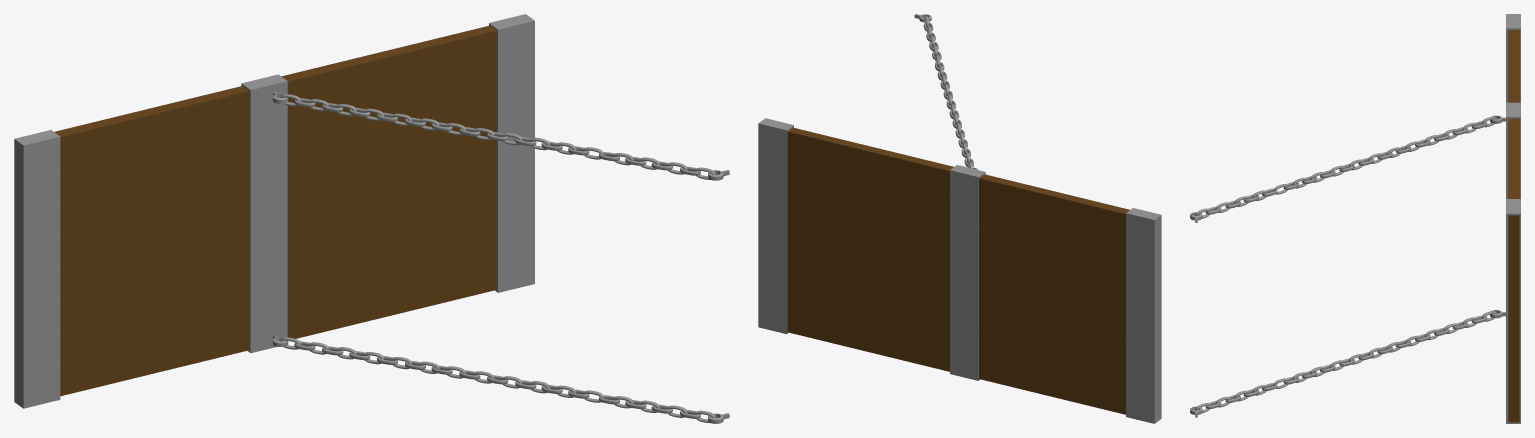
File: Drawbridge_01.fbx
3 renders of one model, left to right at view 1: azimuth 30°, elevation 25°; view 2: azimuth 150°, elevation 25°; view 3: azimuth 270°, elevation 25°, orthographic. The views are drawn at different scales.
Parts seen in each view (by area): view 1: Draw Bridge; view 2: Draw Bridge; view 3: Draw Bridge.
Boxes of the visible parts, x1,y1,x2,y2 form: Draw Bridge: (14, 14, 729, 423); Draw Bridge: (758, 14, 1161, 423); Draw Bridge: (1190, 14, 1520, 423).
Bounding box in the file's own units: 418 × 205 × 292.
